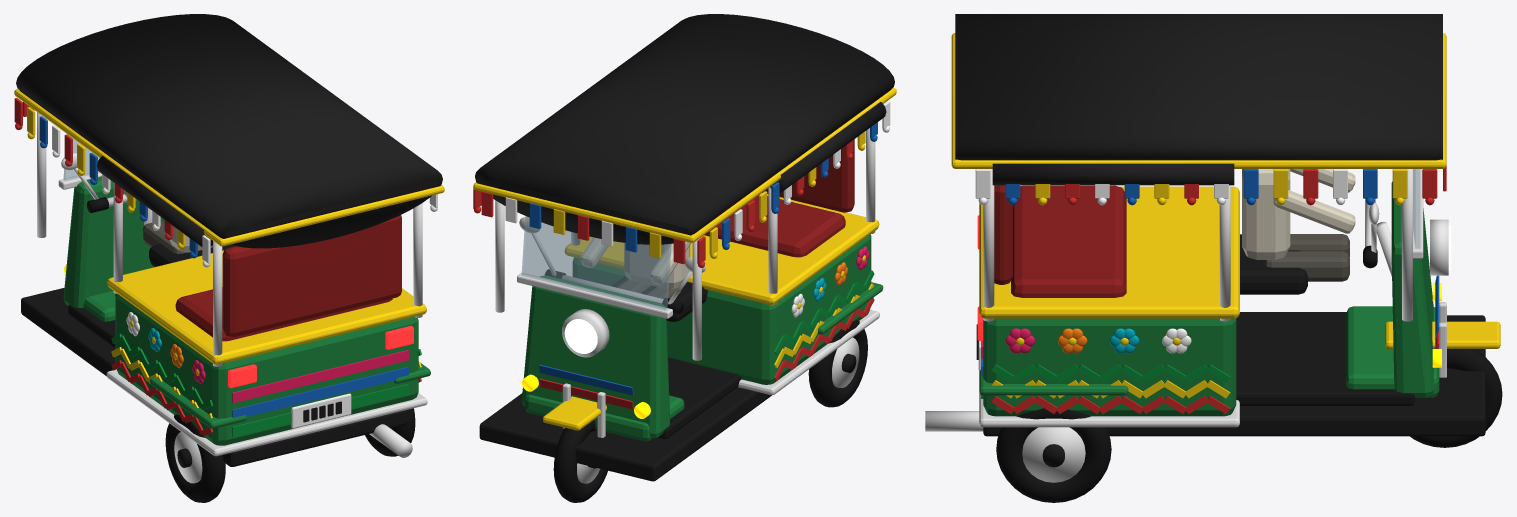
The model's file is rickshaw.glb.
3 renders of one model, left to right at view 1: azimuth 30°, elevation 25°; view 2: azimuth 150°, elevation 25°; view 3: azimuth 270°, elevation 25°, orthographic. The views are drawn at different scales.
Parts seen in each view (by area): view 1: Cylinder.010, Cube.133, Cube.001, Cube.002, Cube.082, Cube, Cube.003, Wheel_RL, Cube.090, Cylinder.011, Cube.072, Cube.071 (+17 smaller); view 2: Cylinder.010, Cube.082, Cube.001, Cube, Cube.086, Cube.002, Cube.132, Wheel_RL, Cube.090, Cube.081, Wheel_F, Cube.133 (+20 smaller); view 3: Cylinder.010, Cube.002, Cube.001, Cube.132, Cube.081, Cube, Wheel_RR, Cube.082, Cylinder.012, Cube.090, Cube.083, Cube.140 (+16 smaller).
Boxes of the visible parts, box(x1,y1,x2,y2) form: Cylinder.010: box(16, 14, 442, 248); Cube.133: box(222, 215, 401, 336); Cube.001: box(115, 294, 418, 445); Cube.002: box(107, 250, 426, 364); Cube.082: box(63, 176, 164, 307); Cube: box(21, 288, 408, 466); Cube.003: box(106, 369, 427, 456); Wheel_RL: box(165, 414, 225, 502); Cube.090: box(14, 89, 444, 246); Cylinder.011: box(97, 156, 212, 246); Cube.072: box(232, 350, 408, 403); Cube.071: box(232, 367, 408, 417); Cylinder.010: box(475, 14, 894, 244); Cube.082: box(521, 276, 669, 437); Cube.001: box(573, 234, 871, 384); Cube: box(479, 387, 771, 481); Cube.086: box(521, 216, 671, 310); Cube.002: box(565, 193, 879, 304); Cube.132: box(704, 194, 845, 257); Wheel_RL: box(808, 320, 867, 407); Cube.090: box(473, 88, 896, 242); Cube.081: box(658, 357, 741, 438); Wheel_F: box(553, 419, 607, 502); Cube.133: box(762, 139, 854, 212); Cylinder.010: box(955, 14, 1442, 159); Cube.002: box(979, 186, 1239, 318); Cube.001: box(983, 318, 1236, 416); Cube.132: box(1011, 185, 1126, 297); Cube.081: box(1236, 312, 1414, 405); Cube: box(983, 315, 1485, 436); Wheel_RR: box(996, 408, 1111, 502); Cube.082: box(1391, 181, 1434, 397); Cylinder.012: box(992, 163, 1234, 185); Cube.090: box(951, 33, 1446, 168); Cube.083: box(1346, 306, 1439, 397); Cube.140: box(1242, 169, 1290, 259).
Bounding box in the file's own units: 1.74 × 2.35 × 3.1.
